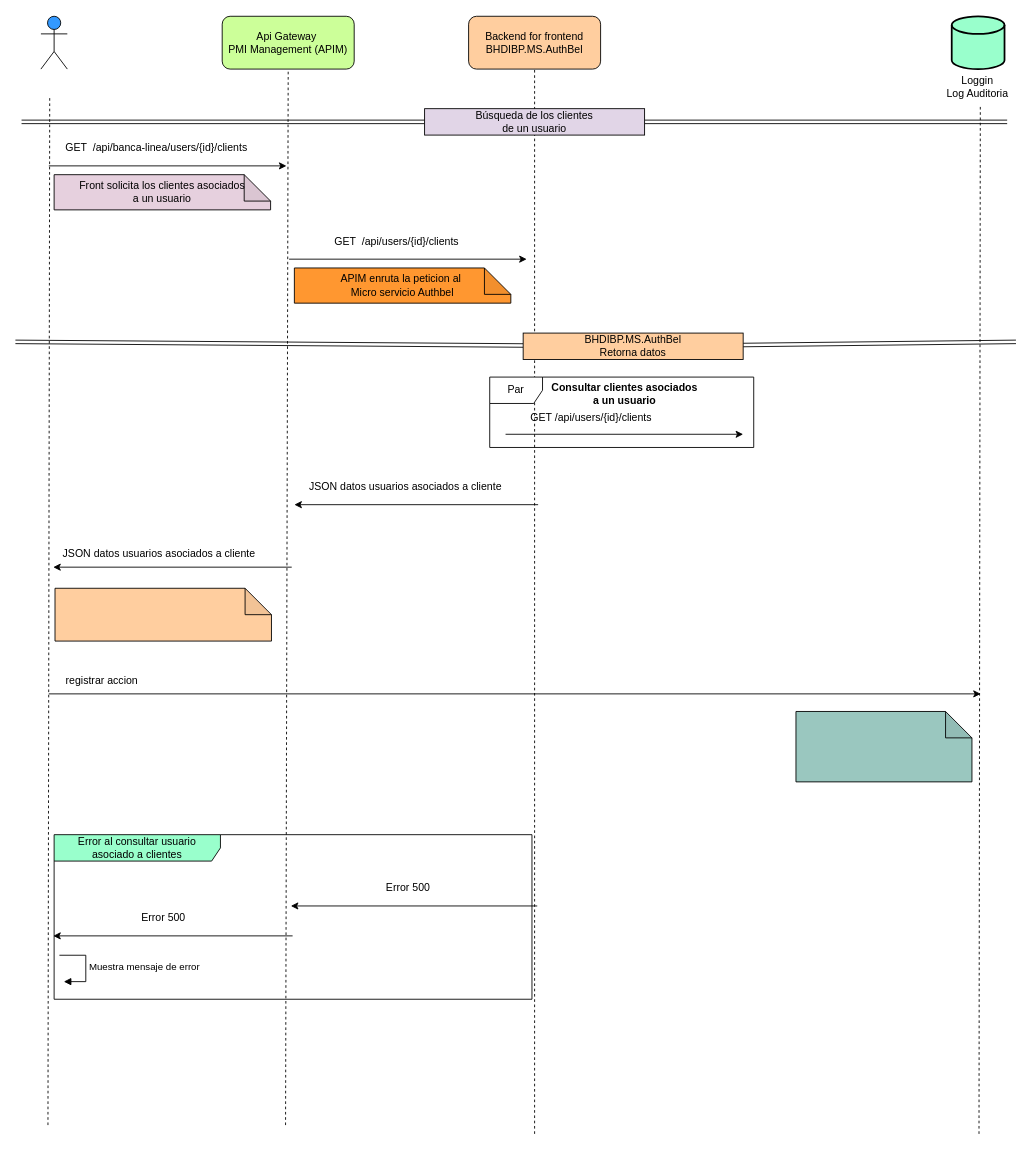
Some shapes in this 1032 by 1150 pixel diagram are drawn without their labels. Here are the shapes that lost their labels. From the top down, the centre of each, then its label:
At point 53,42: "Usuario".
At point 162,614: "Muestra mensaje de confirmación de consulta de usuario asociado a cliente".
At point 883,746: "Datos auditados: - Usuario - IP - Fecha/Hora - Accion actualizar role".
